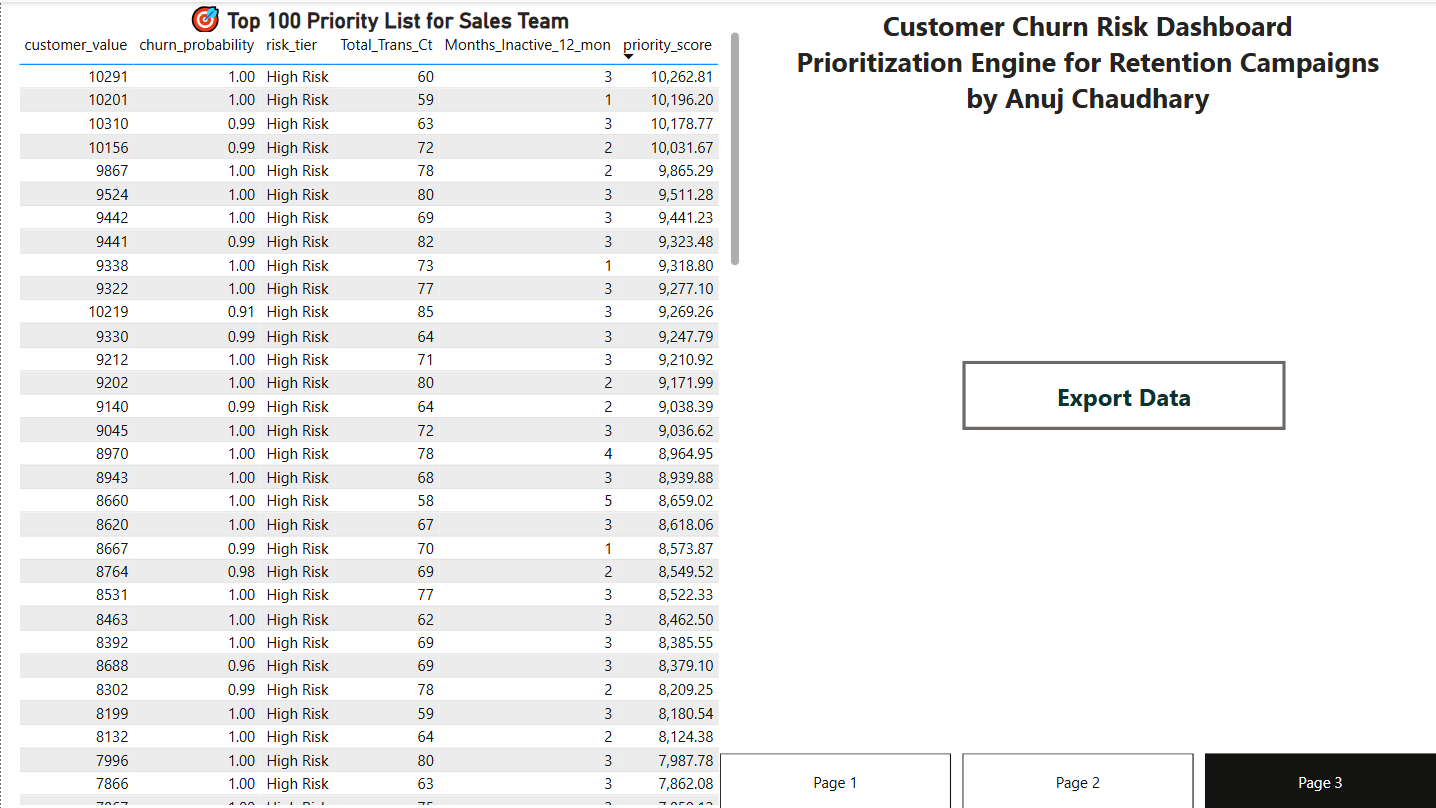

Layout of this report page (visuals, bound fields, positions):
{"tool":"powerbi","page":{"name":"Page 3","canvas":[1280,720],"ordinal":2},"visuals":[{"type":"tableEx","title":"🎯 Top 100 Priority List for Sales Team","fields":{"Values":["top_100_at_risk.customer_value","top_100_at_risk.churn_probability","top_100_at_risk.risk_tier","top_100_at_risk.Total_Trans_Ct","top_100_at_risk.Months_Inactive_12_mon","top_100_at_risk.priority_score"]},"box":[9.6,0,653.2,720.4],"z":0},{"type":"actionButton","box":[856.3,319.7,288.2,61.7],"z":1000},{"type":"pageNavigator","box":[640.1,669,640.1,51.2],"z":2000},{"type":"textbox","box":[662.8,0,617.5,135.8],"z":3000}]}

Visuals, with their boxes in screenshot pixels (x1, y1, x2, y2), scaled from the page's 1280x720 canvas onto the 1436x808 screenshot:
"🎯 Top 100 Priority List for Sales Team" tableEx: (11, 0, 744, 807)
actionButton: (961, 359, 1284, 428)
pageNavigator: (718, 751, 1435, 807)
textbox: (744, 0, 1435, 152)
